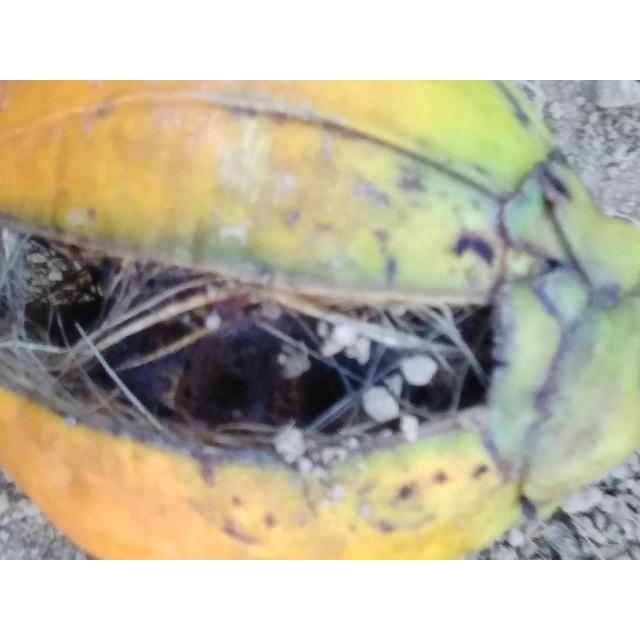damaged: (0, 80, 640, 560)
